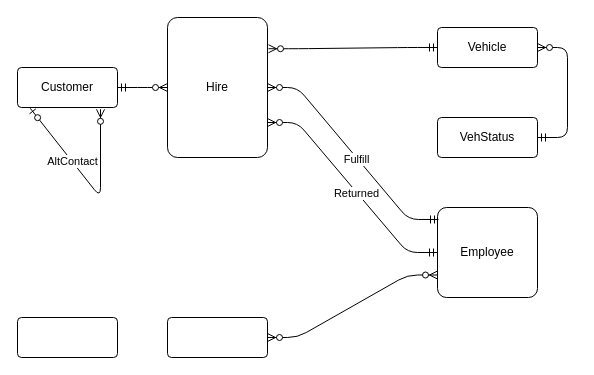
This 594x375 diagram has some shape labels left out. Here are the shapes that lost their labels. From the top down, the centre of each, then its label:
At (x=67, y=337): "Configurations".
At (x=217, y=337): "Role".
